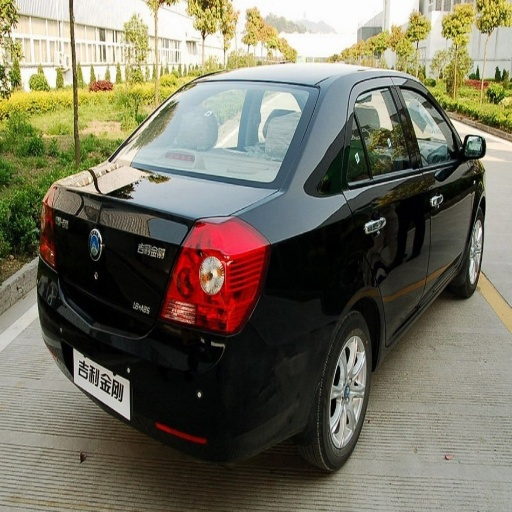back_bumper: (96, 320, 326, 467)
back_right_door: (352, 77, 427, 328)
back_right_light: (161, 221, 266, 332)
front_bumper: (53, 194, 134, 345)
front_glass: (195, 83, 347, 152), (111, 108, 191, 173)
tailgate: (110, 294, 158, 329)
trunk: (104, 209, 182, 317)
